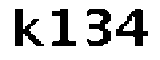1: (46, 7, 79, 51)
3: (84, 6, 113, 49)
4: (115, 6, 151, 52)
k: (11, 4, 44, 51)
